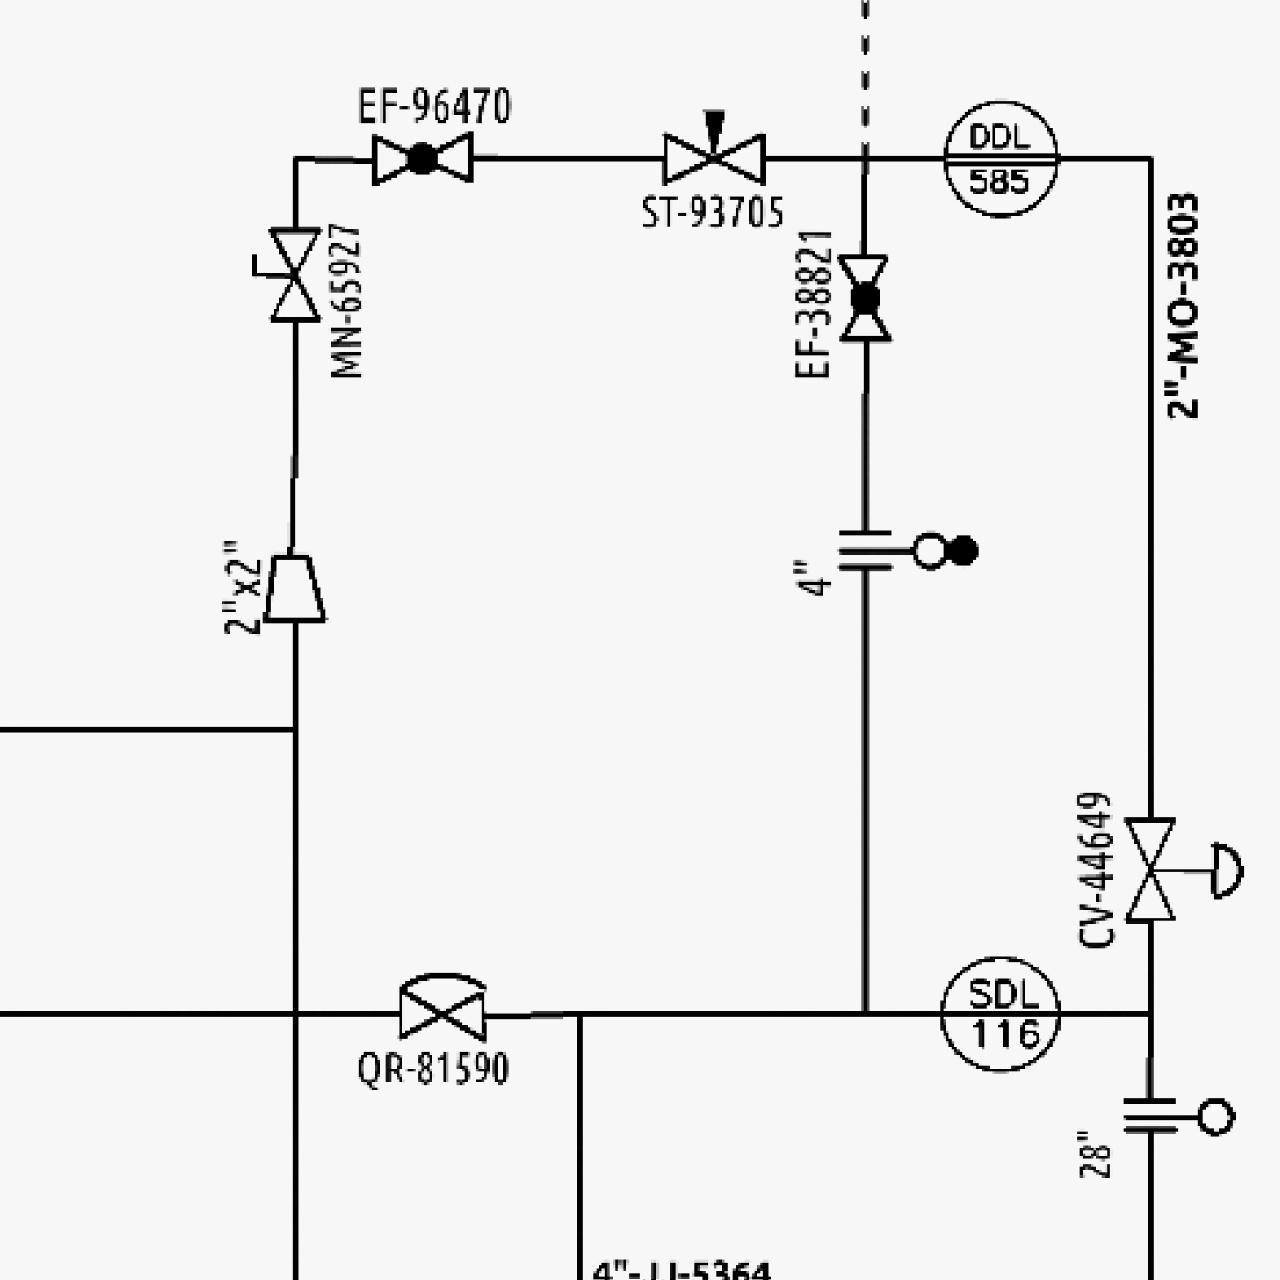Control-Panel: (937, 94, 1064, 222)
